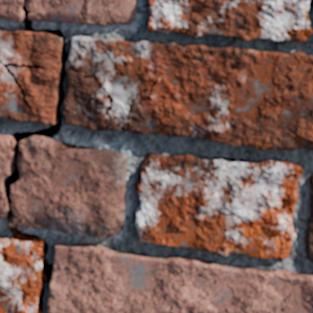brick: (64, 37, 312, 149), (47, 244, 312, 312), (136, 154, 301, 259), (149, 0, 311, 41), (0, 31, 61, 124), (0, 237, 43, 312), (305, 174, 312, 260)
broken_brick: (10, 136, 128, 238), (0, 0, 137, 26), (0, 133, 12, 180), (0, 186, 7, 219)
crack: (0, 2, 67, 310), (118, 71, 161, 130), (82, 60, 114, 130)
